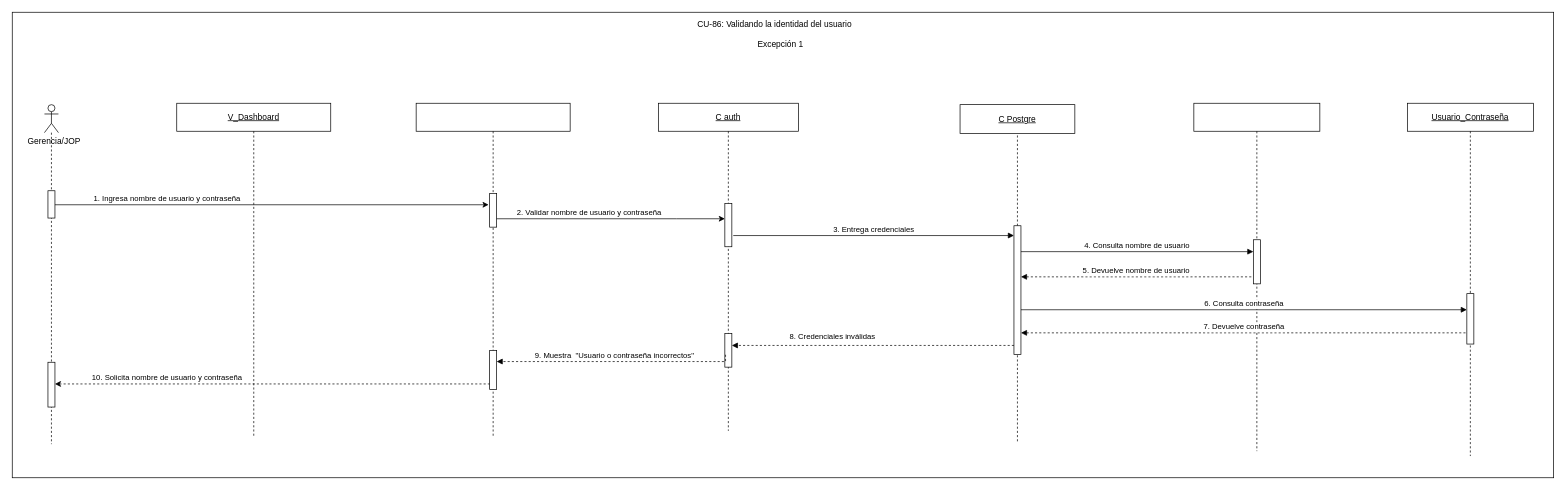
Image size: 1566x490. Some labels were removed from this diagram. Here are the shapes that lost their labels. From the top down, the box of each, then its label:
(415, 103, 570, 437): V_Iniciar_Sesion
(1193, 103, 1320, 451): Usuario
